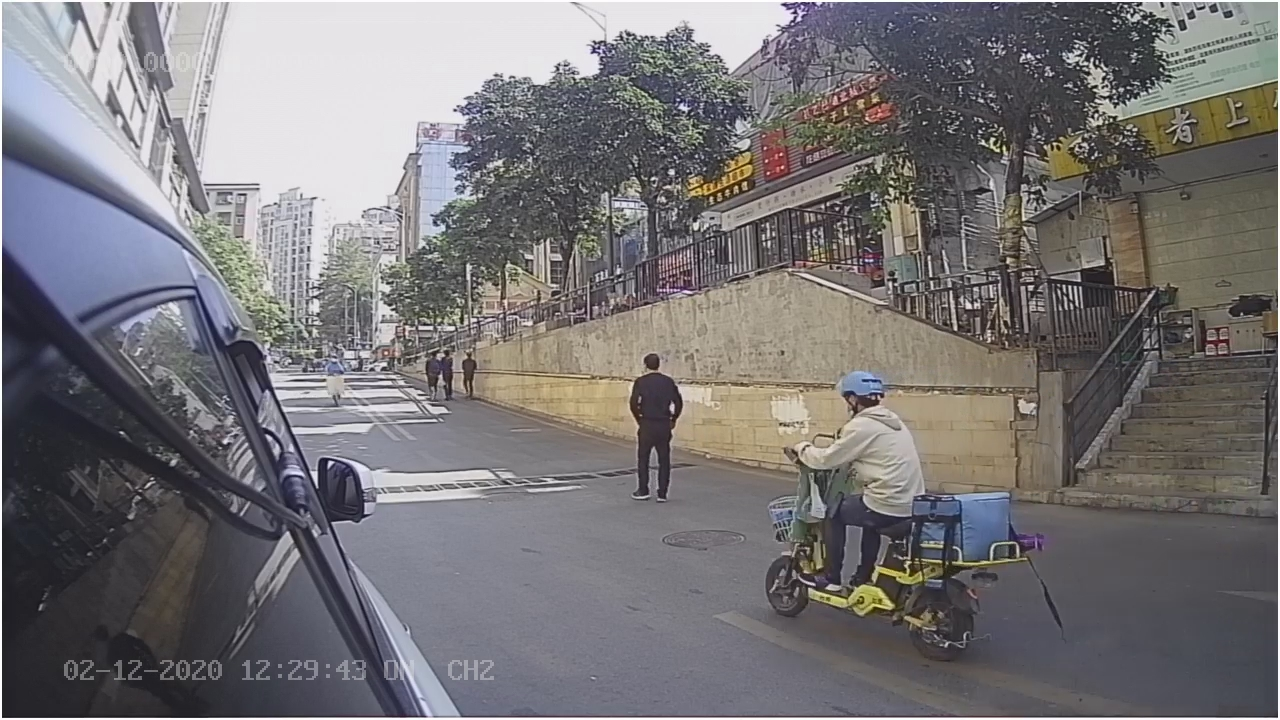person: (794, 366, 921, 474), (610, 347, 692, 509)
